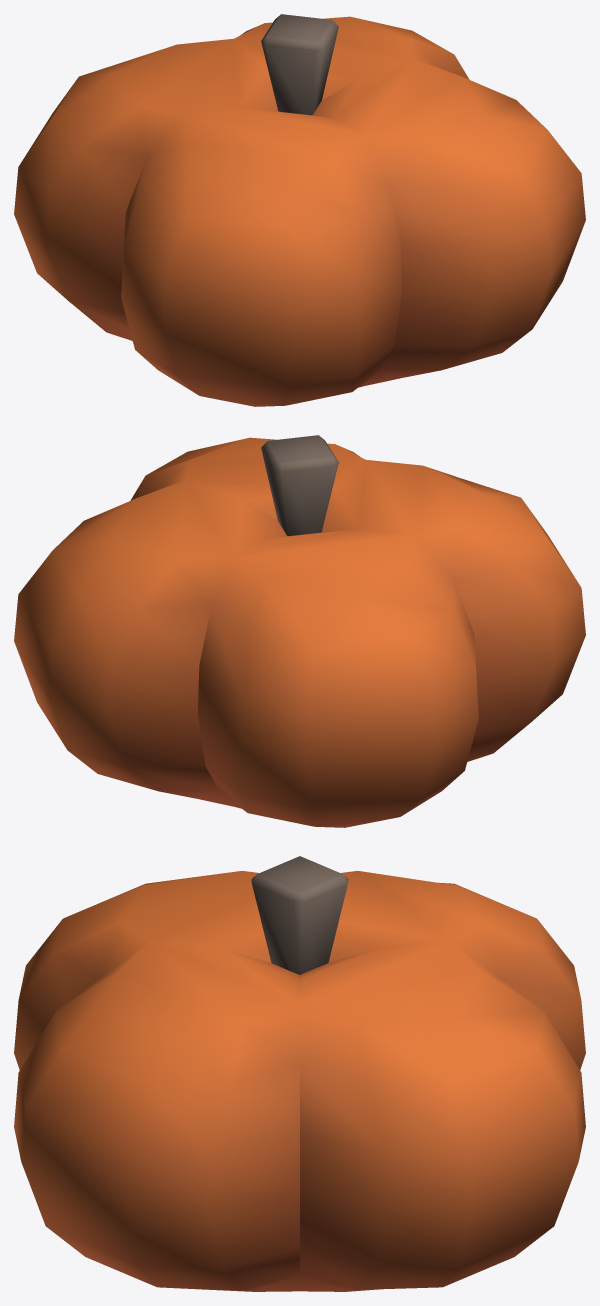
Rendered from prop_pumpkin.glb.
The picture shows the model from 3 angles, top to bottom: view 1: azimuth 30°, elevation 25°; view 2: azimuth 150°, elevation 25°; view 3: azimuth 270°, elevation 25°; orthographic projection. The views are drawn at different scales.
Visible parts, largest first — view 1: pumpkin_orange; view 2: pumpkin_orange; view 3: pumpkin_orange.
Boxes of the visible parts, x1,y1,x2,y2 form: pumpkin_orange: [14, 14, 585, 406]; pumpkin_orange: [14, 435, 585, 827]; pumpkin_orange: [14, 856, 585, 1291].
Size of the model in its own units: 1 by 0.7 by 1.
1 material, 1 textured.
